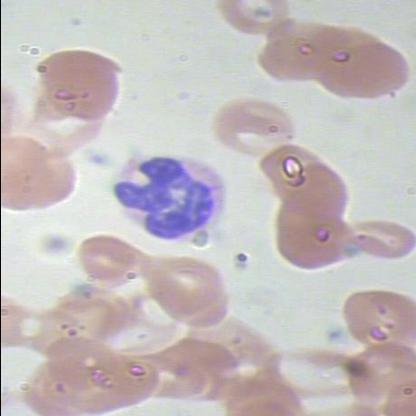Platelets: (40, 233, 75, 262), (84, 146, 119, 175)
RBC: (253, 140, 357, 226), (269, 190, 355, 274), (34, 42, 124, 122), (255, 11, 345, 91), (322, 24, 412, 104), (332, 279, 415, 364), (1, 134, 83, 214), (266, 343, 362, 406), (66, 354, 165, 414), (214, 95, 298, 163), (71, 228, 152, 290), (150, 254, 232, 315), (1, 291, 59, 357), (340, 215, 415, 264), (206, 0, 302, 38), (211, 380, 308, 416)
WBC: (107, 148, 235, 244)
